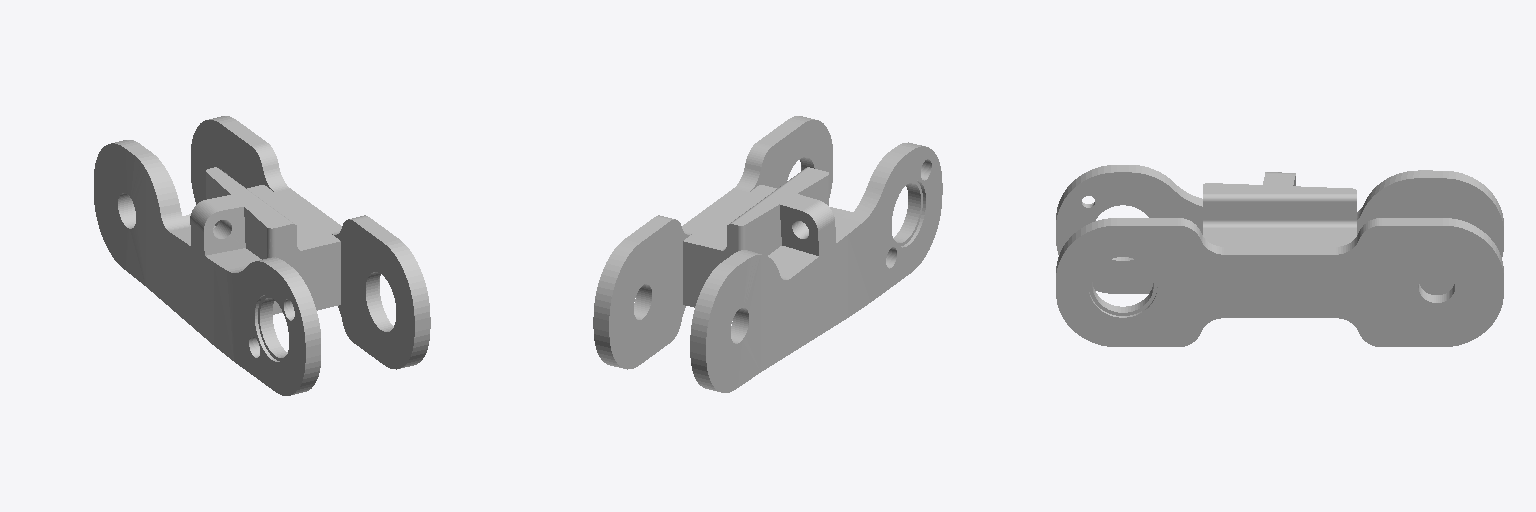
3 renders of one model, left to right at view 1: azimuth 30°, elevation 25°; view 2: azimuth 150°, elevation 25°; view 3: azimuth 270°, elevation 25°, orthographic.
Parts seen in each view (by area): view 1: mesh75, mesh32, mesh3, mesh83, mesh61, mesh39, mesh76, mesh35, mesh16, mesh28, mesh21, mesh7 (+6 smaller); view 2: mesh32, mesh83, mesh3, mesh75, mesh39, mesh76, mesh35, mesh48, mesh16, mesh28, mesh38, mesh82 (+7 smaller); view 3: mesh85, mesh15, mesh42, mesh76, mesh30, mesh28, mesh29, mesh31, mesh88.
Part boxes in pixels (x1,y1,x2,y2): mesh75: (332, 219, 414, 369); mesh32: (146, 170, 213, 344); mesh3: (234, 261, 305, 395); mesh83: (191, 120, 273, 204); mesh61: (272, 224, 340, 314); mesh39: (94, 143, 124, 269); mesh76: (247, 185, 341, 249); mesh35: (125, 149, 145, 285); mesh16: (214, 263, 233, 360); mesh28: (206, 167, 290, 228); mesh21: (204, 207, 245, 255); mesh7: (276, 266, 320, 347); mesh32: (761, 221, 847, 371); mesh83: (609, 219, 691, 369); mesh3: (871, 146, 942, 301); mesh75: (750, 120, 832, 197); mesh39: (706, 266, 737, 392); mesh76: (682, 185, 776, 249); mesh35: (738, 255, 760, 387); mesh48: (683, 224, 737, 307); mesh16: (848, 214, 870, 317); mesh28: (733, 167, 828, 225); mesh38: (690, 263, 735, 344); mesh82: (594, 240, 639, 320); mesh85: (1056, 226, 1503, 346); mesh15: (1056, 172, 1202, 293); mesh42: (1357, 178, 1503, 294); mesh76: (1203, 228, 1356, 254); mesh30: (1203, 202, 1356, 219); mesh28: (1203, 174, 1356, 193); mesh29: (1203, 194, 1356, 201); mesh31: (1203, 220, 1356, 227); mesh88: (1089, 255, 1157, 315).
Size of the model in its own units: 0.0236 by 0.022 by 0.0734.